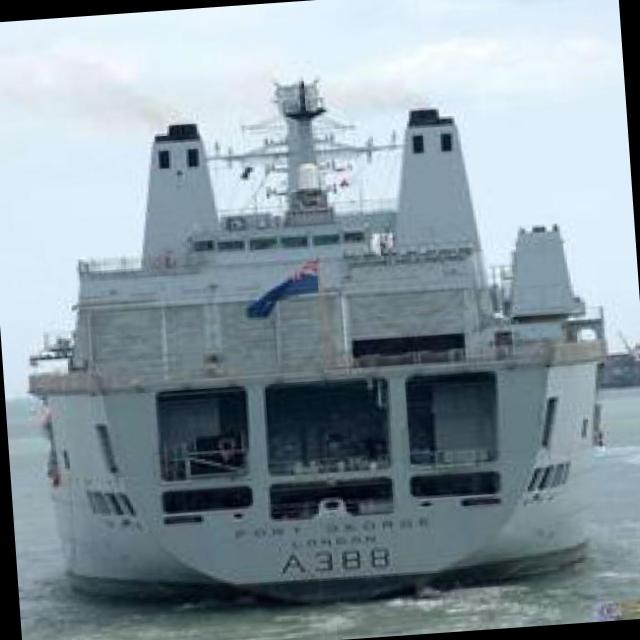boat: (5, 112, 618, 606)
